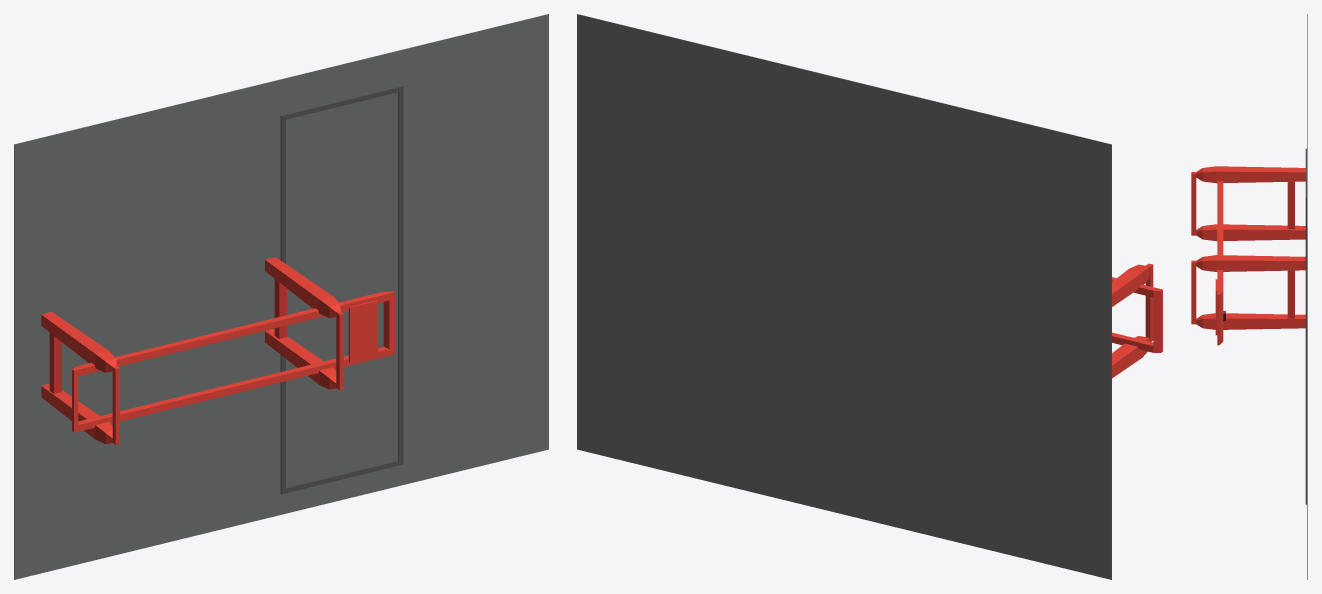
File: rail_freight_station.glb
The picture shows the model from 3 angles, left to right: view 1: azimuth 30°, elevation 25°; view 2: azimuth 150°, elevation 25°; view 3: azimuth 270°, elevation 25°; orthographic projection. The views are drawn at different scales.
Visible parts, largest first — view 1: sol, pylonnes, haut, Cube.003, plateforme, Cube; view 2: sol, pylonnes, haut; view 3: pylonnes, haut, Cube, Cube.003, sol, plateforme.
Part boxes in pixels (bbox=[...]): sol: bbox=[14, 14, 548, 579]; pylonnes: bbox=[41, 257, 343, 444]; haut: bbox=[72, 291, 394, 432]; Cube.003: bbox=[280, 86, 403, 494]; plateforme: bbox=[348, 300, 377, 362]; Cube: bbox=[49, 279, 286, 393]; sol: bbox=[577, 14, 1111, 579]; pylonnes: bbox=[1112, 263, 1153, 378]; haut: bbox=[1112, 277, 1162, 352]; pylonnes: bbox=[1191, 166, 1305, 329]; haut: bbox=[1217, 181, 1223, 345]; Cube: bbox=[1287, 181, 1294, 318]; Cube.003: bbox=[1305, 148, 1306, 504]; sol: bbox=[1307, 14, 1307, 579]; plateforme: bbox=[1215, 279, 1225, 335].
Size of the model in its own units: 200 by 156 by 46.42.
Materials: 1 (1 with a texture image).
